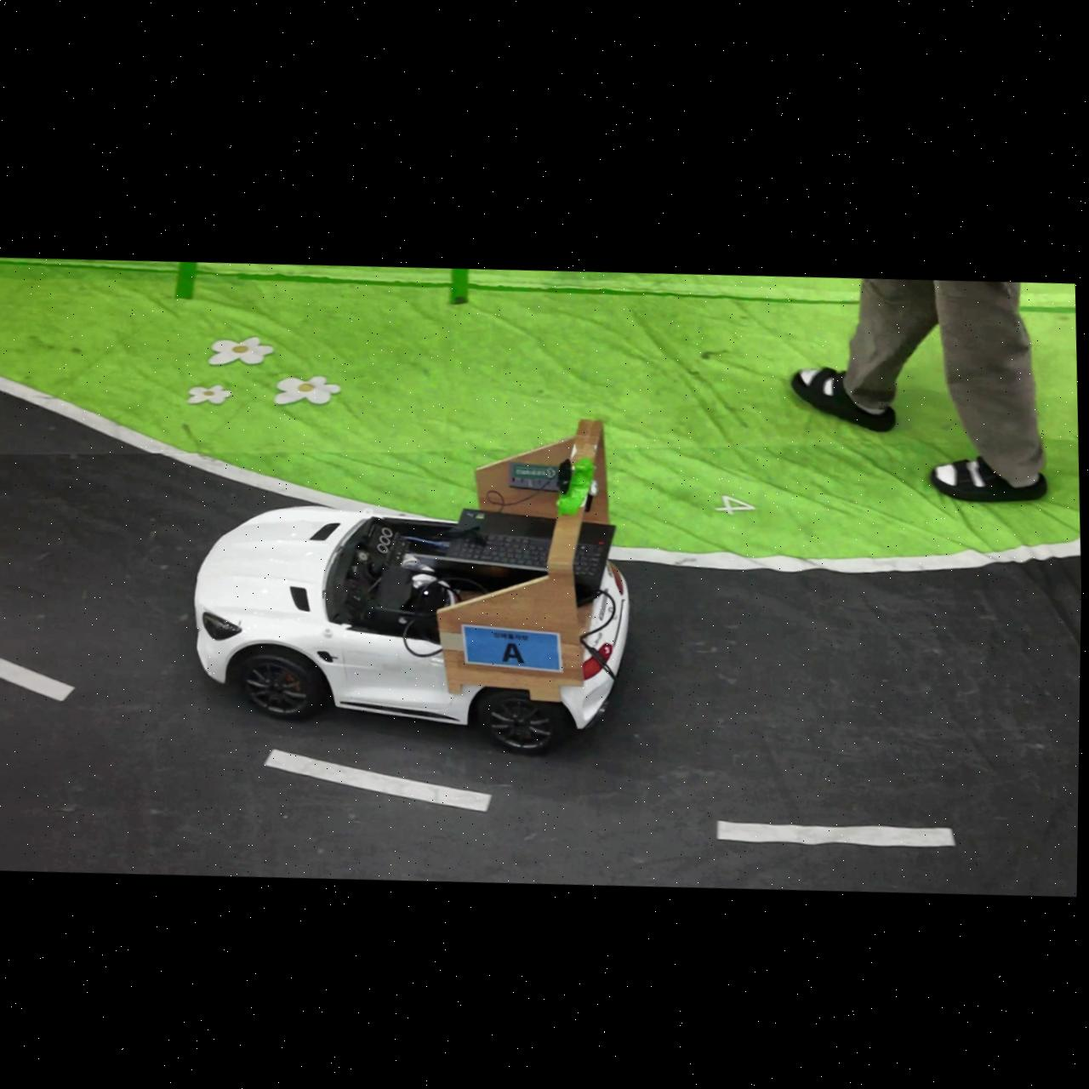broken_line: (263, 748, 492, 812), (716, 820, 956, 847), (0, 657, 76, 701)
